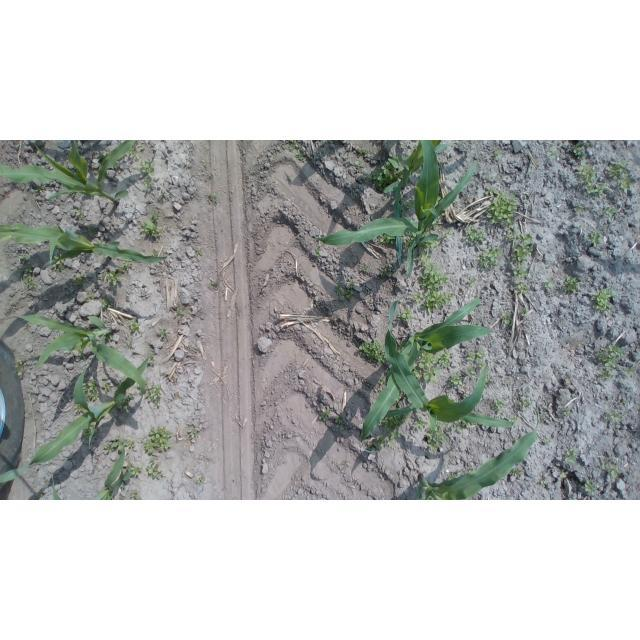Maize: (308, 141, 476, 280), (361, 296, 496, 444), (1, 354, 150, 480), (385, 295, 514, 438), (413, 405, 541, 500), (4, 310, 147, 395), (0, 140, 136, 204), (0, 224, 170, 266), (51, 442, 135, 500), (385, 140, 457, 194)
Weeds: (419, 263, 453, 313), (485, 187, 518, 228), (367, 155, 405, 186), (577, 161, 606, 197), (413, 351, 440, 383), (17, 254, 40, 290), (380, 413, 409, 440), (145, 425, 172, 453), (596, 341, 624, 367), (358, 340, 386, 365), (591, 288, 616, 314), (107, 260, 132, 286), (416, 239, 440, 266), (141, 210, 164, 238), (513, 233, 534, 262), (426, 421, 446, 451), (104, 436, 134, 455), (478, 247, 502, 269), (82, 378, 100, 404), (334, 278, 354, 300), (51, 247, 66, 274), (609, 160, 628, 179), (145, 385, 161, 406), (366, 436, 390, 450), (466, 225, 484, 243), (602, 462, 621, 479), (139, 158, 155, 178), (127, 143, 145, 160), (466, 347, 486, 362), (437, 347, 452, 367), (570, 142, 587, 158), (147, 464, 165, 479), (513, 261, 528, 279), (619, 177, 634, 195), (452, 419, 471, 433), (14, 356, 27, 376), (564, 276, 580, 292), (587, 230, 603, 246), (400, 200, 415, 217), (565, 446, 578, 463), (83, 425, 98, 439), (600, 368, 615, 382), (336, 414, 349, 430), (379, 232, 395, 244), (379, 264, 395, 276), (604, 411, 621, 422), (400, 234, 413, 248), (585, 479, 598, 493), (449, 372, 462, 386), (398, 308, 413, 320), (605, 206, 618, 219), (414, 417, 427, 430), (128, 319, 140, 333), (506, 229, 520, 241), (492, 399, 504, 413), (127, 465, 142, 476), (137, 379, 148, 393), (543, 277, 554, 291), (502, 312, 512, 327), (516, 281, 528, 293), (288, 141, 301, 152), (511, 467, 524, 478), (97, 149, 111, 159), (174, 307, 186, 318), (155, 328, 167, 339), (318, 410, 330, 421), (74, 275, 87, 285), (357, 148, 371, 157), (509, 415, 520, 426), (102, 298, 113, 309), (188, 426, 198, 438), (411, 293, 423, 303), (467, 366, 477, 378), (130, 490, 141, 500), (118, 401, 128, 411), (295, 150, 305, 160), (397, 341, 407, 351), (493, 150, 502, 161), (146, 353, 155, 364), (443, 229, 454, 238), (76, 209, 85, 220), (102, 381, 111, 391), (143, 179, 153, 188), (34, 185, 44, 194), (624, 368, 634, 377), (209, 193, 219, 202), (432, 219, 440, 230), (197, 476, 206, 485), (562, 408, 571, 417), (354, 160, 364, 168), (519, 400, 529, 408), (360, 266, 371, 273), (74, 405, 82, 414), (550, 150, 558, 159), (468, 278, 476, 287), (422, 229, 431, 237), (86, 294, 94, 303), (486, 378, 494, 386), (210, 282, 219, 289), (89, 226, 95, 236), (119, 481, 126, 489), (522, 308, 529, 316), (467, 466, 475, 473), (560, 471, 568, 478), (126, 338, 132, 347), (576, 206, 585, 212), (106, 333, 113, 340), (78, 349, 84, 357), (448, 474, 456, 480), (478, 361, 486, 367), (397, 394, 402, 403), (543, 437, 550, 443), (316, 246, 320, 256), (197, 247, 202, 255), (151, 251, 157, 257), (201, 160, 207, 166), (541, 477, 546, 484), (83, 193, 90, 198), (36, 493, 43, 498), (380, 379, 387, 384), (119, 496, 125, 501), (436, 196, 441, 202), (460, 469, 465, 475), (472, 321, 479, 325), (70, 192, 75, 197), (151, 458, 157, 462), (208, 174, 212, 179), (622, 400, 627, 404), (100, 275, 104, 280), (506, 380, 510, 384), (542, 415, 546, 419), (160, 193, 163, 198)
